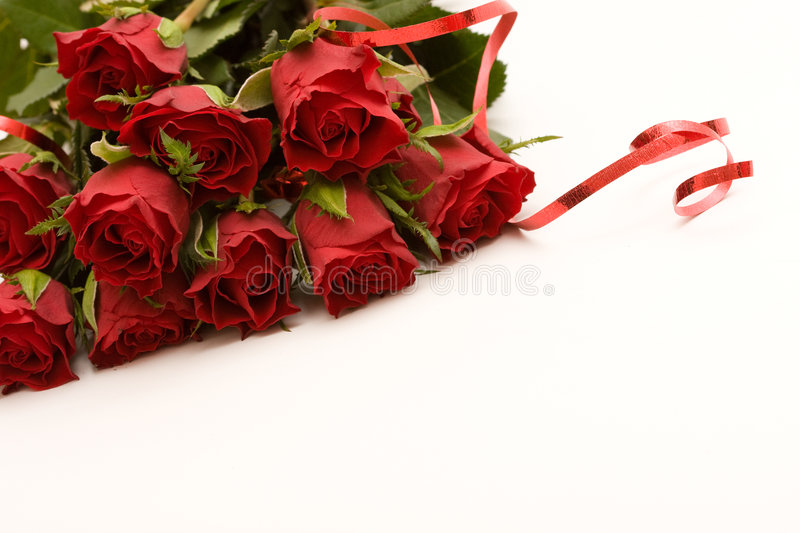RedRose: (47, 25, 221, 132), (291, 32, 413, 175), (312, 164, 423, 305), (0, 265, 100, 420), (187, 201, 303, 332), (73, 160, 201, 278), (404, 125, 529, 242), (121, 98, 273, 188), (70, 256, 196, 356), (4, 142, 60, 259)
